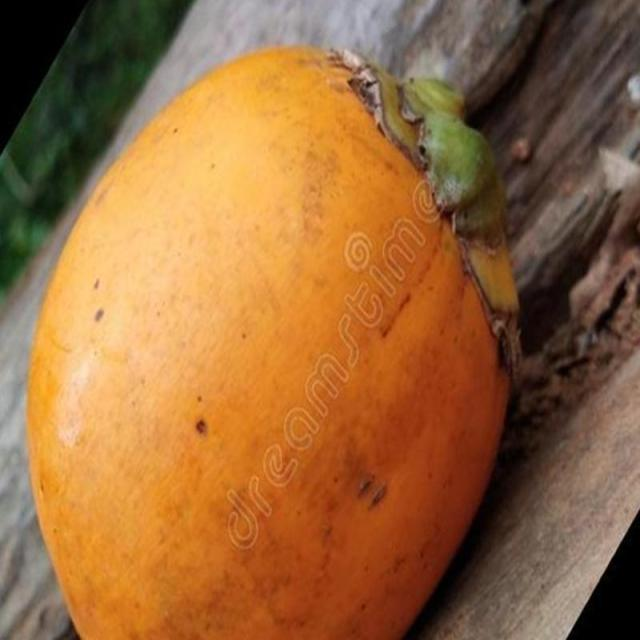good: (20, 45, 516, 639)
